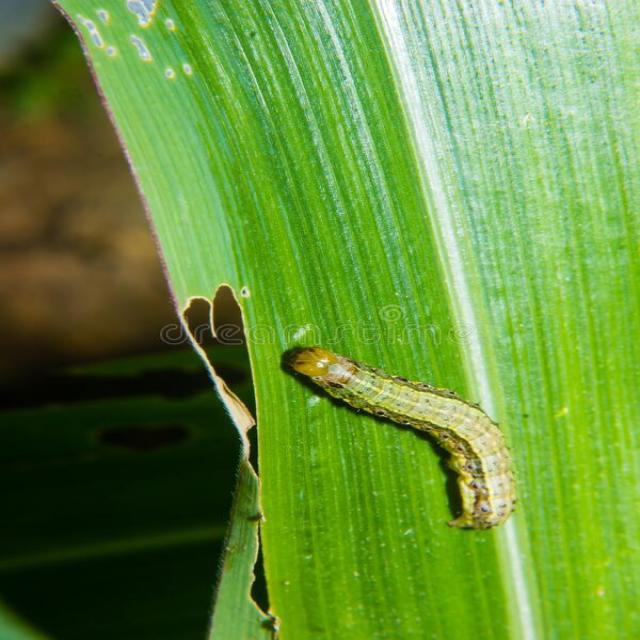yellow-stem-borer-larva: (281, 326, 528, 545)
